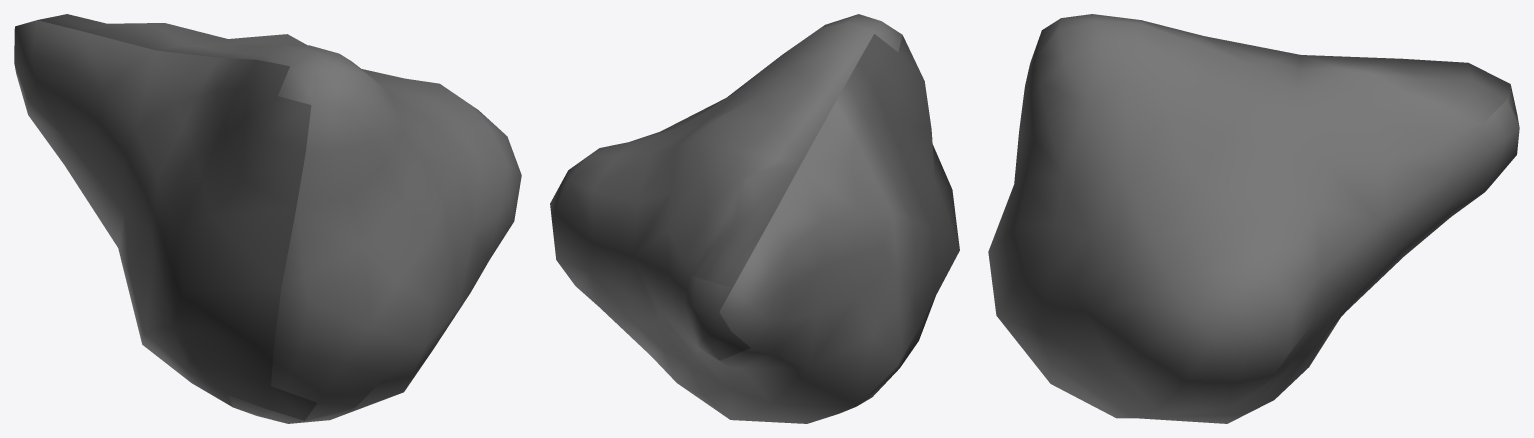
The model's file is rock_08.fbx.
The picture shows the model from 3 angles, left to right: view 1: azimuth 30°, elevation 25°; view 2: azimuth 150°, elevation 25°; view 3: azimuth 270°, elevation 25°; orthographic projection. The views are drawn at different scales.
Parts seen in each view (by area): view 1: rock_08; view 2: rock_08; view 3: rock_08.
Boxes of the visible parts, x1,y1,x2,y2 form: rock_08: (14,14,521,423); rock_08: (550,14,959,423); rock_08: (988,14,1519,423).
Bounding box in the file's own units: 64.65 × 63.49 × 80.68.
